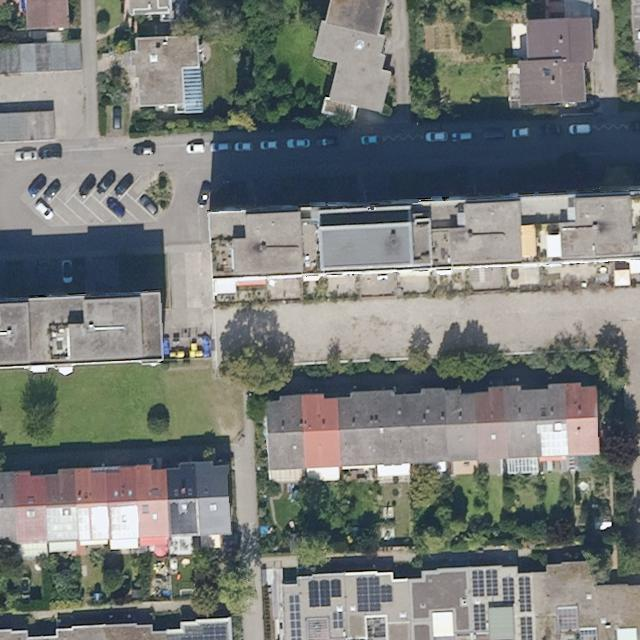PV: (352, 574, 396, 614), (305, 576, 346, 609), (469, 568, 501, 600), (178, 623, 229, 639), (288, 593, 304, 639), (516, 575, 532, 614), (472, 601, 489, 634), (501, 575, 518, 605), (517, 615, 536, 639), (331, 608, 346, 631)
